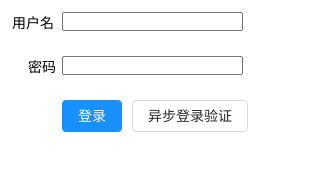
Test: 基本实例表单Form测试 › 点击登录验证
Click the button "登录". click: {"x": 92, "y": 116}
box: [62, 100, 122, 132]
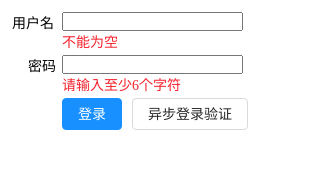
Check: the number of elements with class "xiao-form-item-explain-error" is 2, box [62, 35, 118, 50]; [62, 78, 181, 93]
Check: the element with class "xiao-form-item-has-error" reads "用户名 不能为空", box [12, 12, 243, 50]
Check: the element with class "xiao-form-item-has-error" reads "密码 请输入至少6个字符", box [28, 55, 243, 93]
